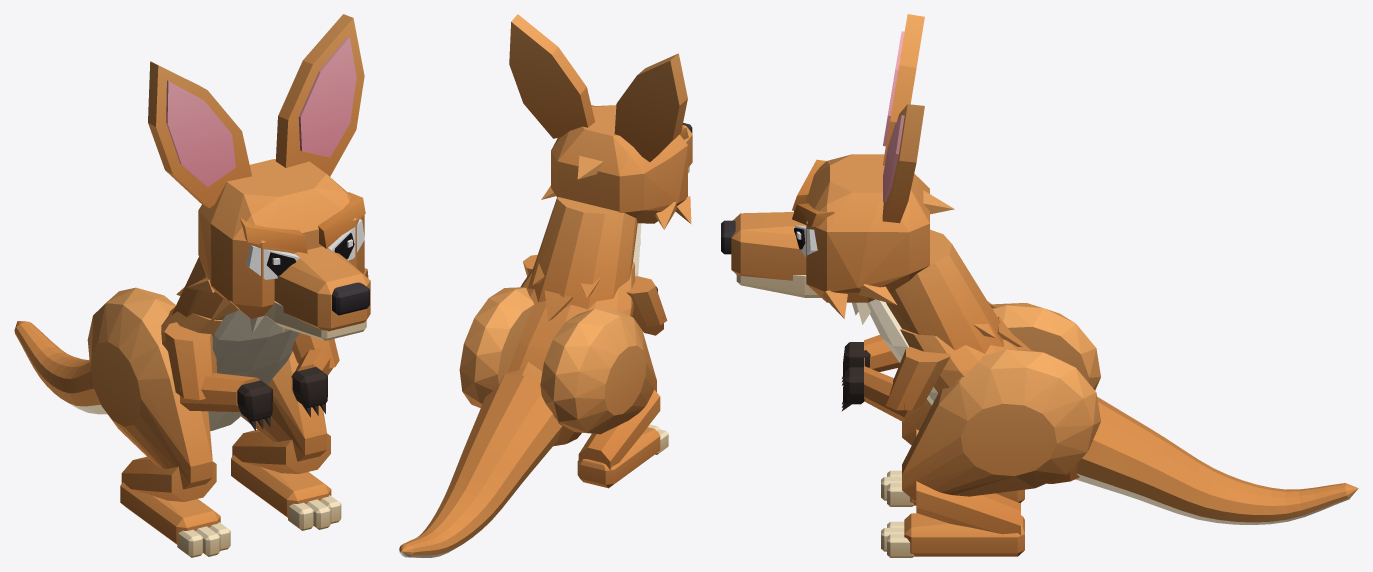
File: RingsideRoo.glb
3 views of the same model, side by side, from view 1: azimuth 30°, elevation 25°; view 2: azimuth 150°, elevation 25°; view 3: azimuth 270°, elevation 25° (orthographic). The views are drawn at different scales.
Visible parts, largest first — view 1: RingsideRoo; view 2: RingsideRoo; view 3: RingsideRoo.
Part boxes in pixels (x1,y1,x2,y2): RingsideRoo: (14, 14, 370, 557); RingsideRoo: (399, 14, 692, 557); RingsideRoo: (721, 14, 1358, 557).
Bounding box in the file's own units: 0.498 × 1.12 × 1.39.
Materials: 1 (1 with a texture image).
